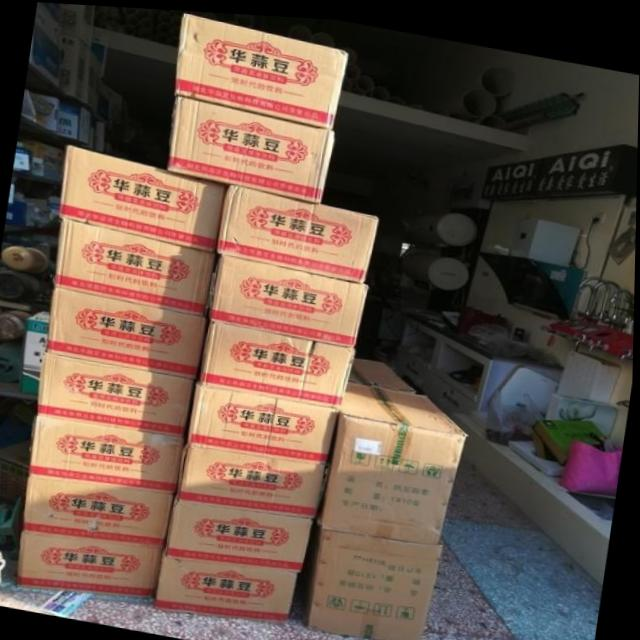box: (320, 379, 466, 538), (175, 9, 348, 127), (60, 144, 232, 252), (169, 94, 338, 200), (214, 183, 378, 280), (48, 286, 215, 380), (57, 217, 216, 315), (309, 525, 442, 639), (207, 252, 368, 342), (199, 317, 359, 406), (40, 352, 198, 438), (191, 382, 343, 461), (169, 493, 320, 572), (34, 413, 187, 489), (180, 438, 330, 515), (25, 472, 183, 543), (20, 529, 164, 596), (160, 548, 298, 617), (22, 309, 53, 396), (349, 355, 428, 389), (54, 100, 92, 144)
